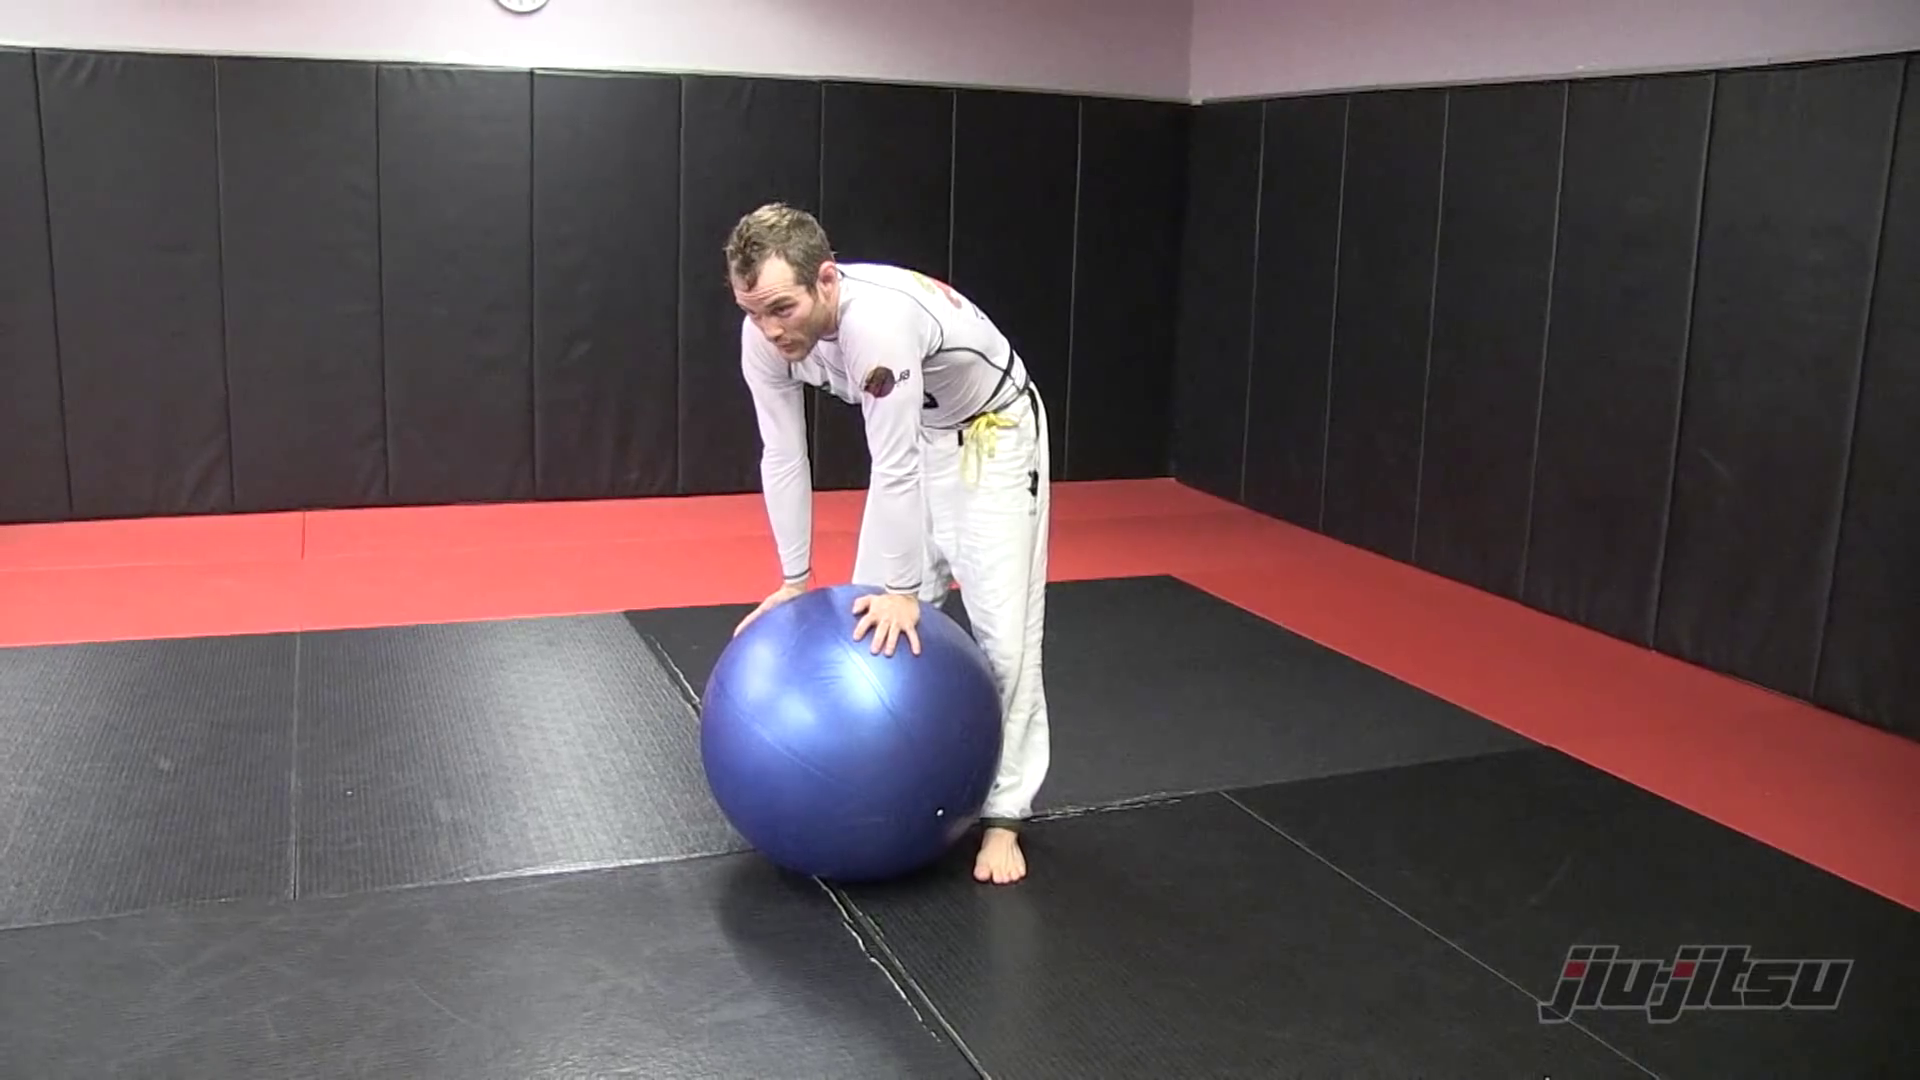yogaball: (680, 582, 1011, 895)
